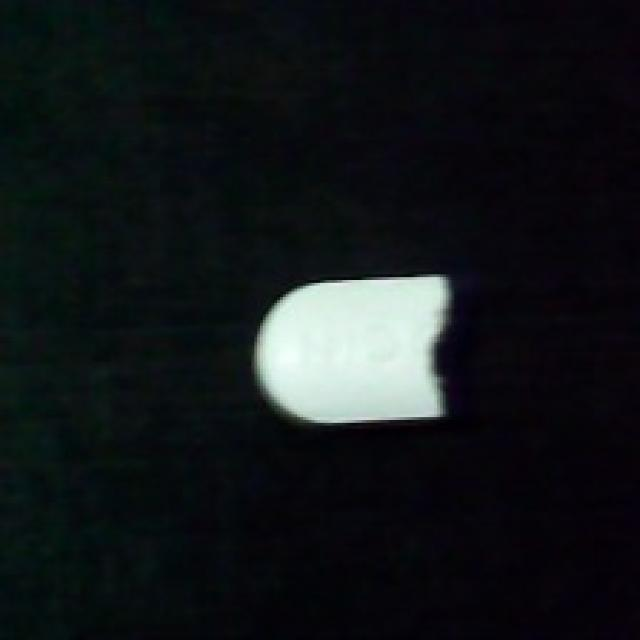defected: (251, 269, 454, 431)
